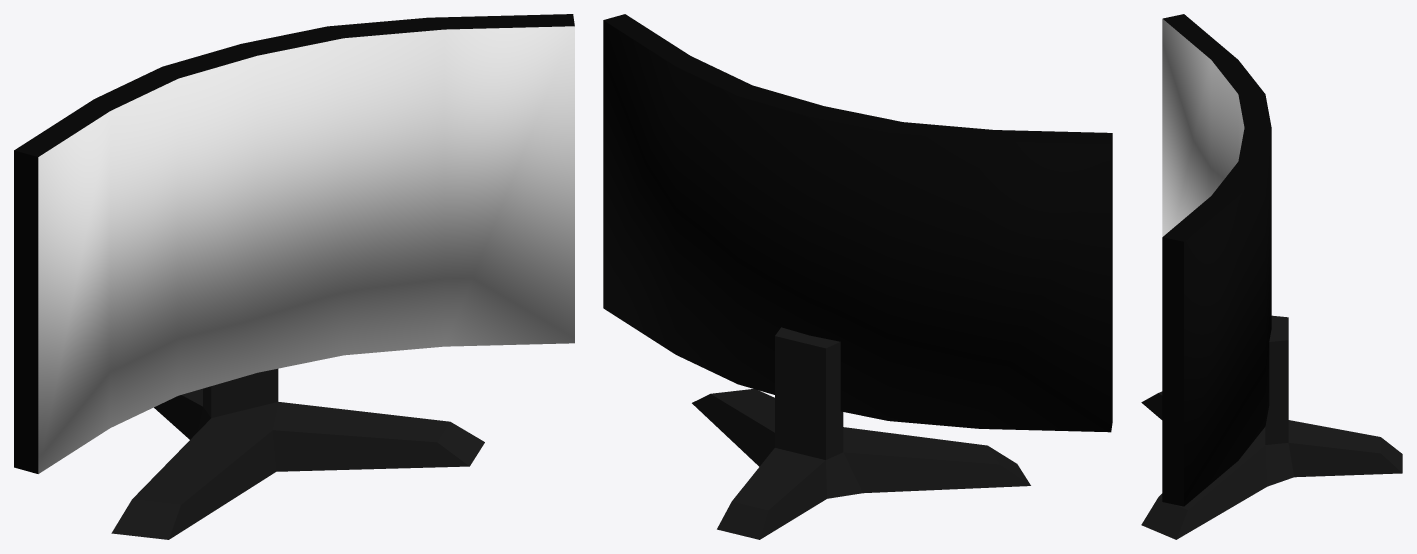
File: Screen.fbx
3 renders of one model, left to right at view 1: azimuth 30°, elevation 25°; view 2: azimuth 150°, elevation 25°; view 3: azimuth 270°, elevation 25°, orthographic. The views are drawn at different scales.
Visible parts, largest first — view 1: Screen; view 2: Screen; view 3: Screen.
Part boxes in pixels (x1,y1,x2,y2): Screen: [14, 14, 574, 539]; Screen: [603, 14, 1112, 539]; Screen: [1141, 14, 1402, 539].
Size of the model in its own units: 994 by 683 by 482.
